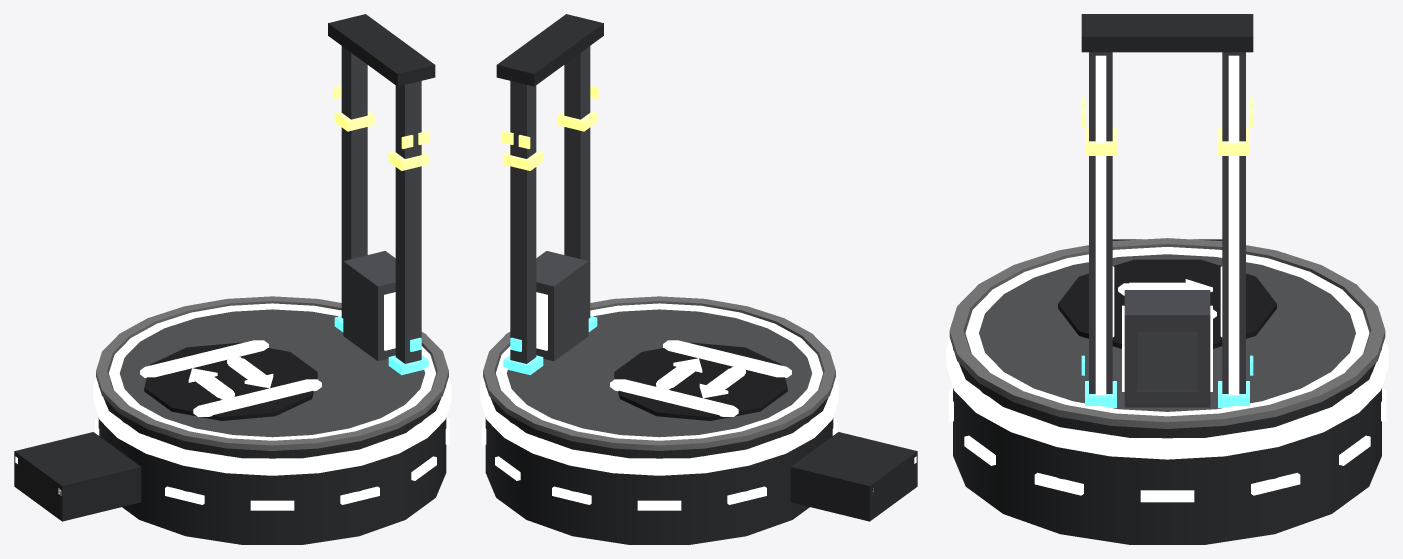
File: Relay_Button_Lift_v3.glb
The picture shows the model from 3 angles, left to right: view 1: azimuth 30°, elevation 25°; view 2: azimuth 150°, elevation 25°; view 3: azimuth 270°, elevation 25°; orthographic projection. The views are drawn at different scales.
Visible parts, largest first — view 1: Relay_Button_Lift_v3, Glyph, Strut, Car; view 2: Relay_Button_Lift_v3, Glyph, Strut, Car; view 3: Relay_Button_Lift_v3, Car, Glyph.
Part boxes in pixels (left/top/right/bottom): Relay_Button_Lift_v3: left=93, top=14, right=451, bottom=544; Glyph: left=140, top=340, right=321, bottom=420; Strut: left=14, top=432, right=141, bottom=521; Car: left=343, top=251, right=395, bottom=361; Relay_Button_Lift_v3: left=480, top=14, right=838, bottom=544; Glyph: left=610, top=340, right=791, bottom=420; Strut: left=790, top=432, right=917, bottom=521; Car: left=536, top=251, right=588, bottom=361; Relay_Button_Lift_v3: left=946, top=14, right=1388, bottom=544; Car: left=1122, top=290, right=1212, bottom=407; Glyph: left=1058, top=259, right=1276, bottom=348.
Bounding box in the file's own units: 5.17 × 5.8 × 4.12.
